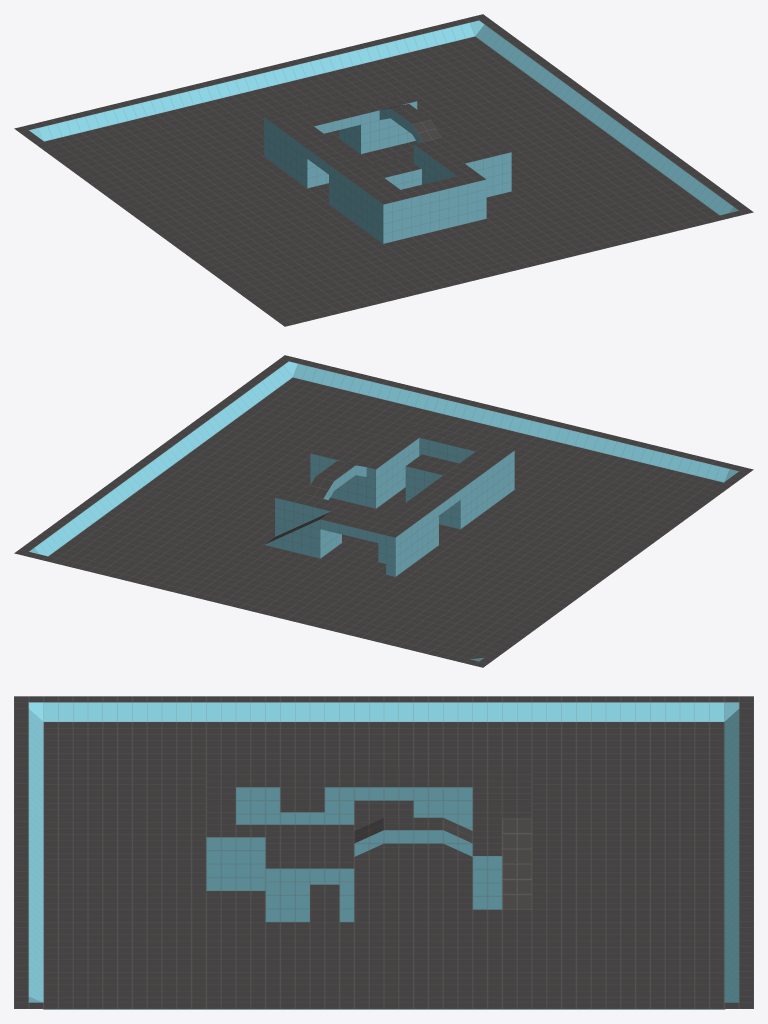
Rendered from TestLevel.fbx.
The picture shows the model from 3 angles, top to bottom: view 1: azimuth 30°, elevation 25°; view 2: azimuth 150°, elevation 25°; view 3: azimuth 270°, elevation 25°; orthographic projection. The views are drawn at different scales.
Parts seen in each view (by area): view 1: Plane; view 2: Plane; view 3: Plane.
Boxes of the visible parts, x1,y1,x2,y2 form: Plane: [14, 14, 753, 326]; Plane: [14, 355, 753, 667]; Plane: [14, 696, 753, 1009].
Bounding box in the file's own units: 5000 × 500 × 5000.
2 materials, 2 textured.
